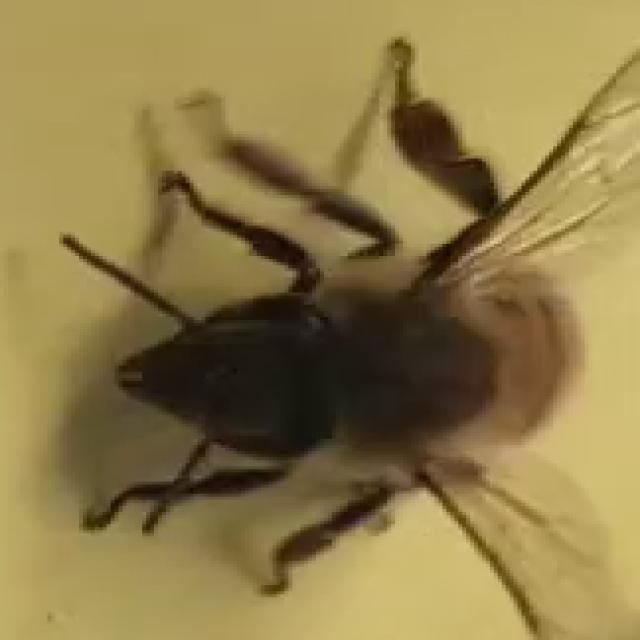honeybee: (71, 59, 624, 592)
